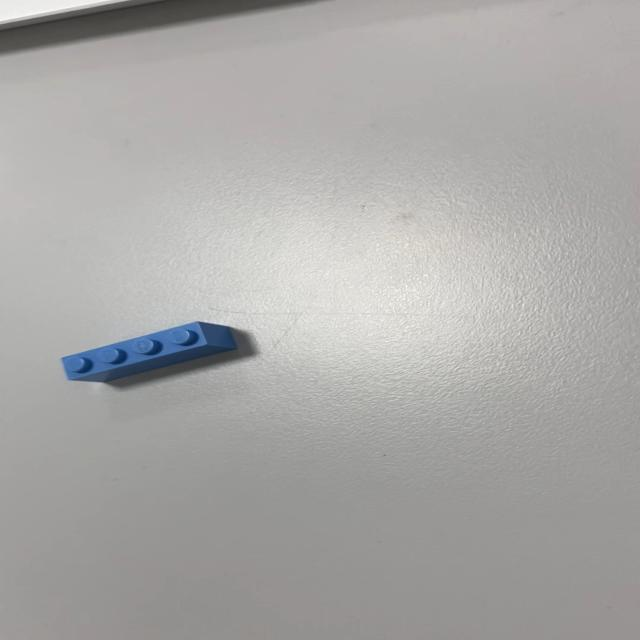C4x1x1: (59, 320, 238, 383)
